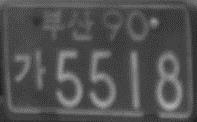0: (124, 10, 151, 43)
1: (127, 50, 146, 110)
5: (86, 48, 118, 110), (54, 48, 84, 108)
8: (154, 49, 184, 113)
9: (101, 7, 127, 42)
가: (11, 48, 47, 90)
부산_O: (39, 6, 94, 43)
